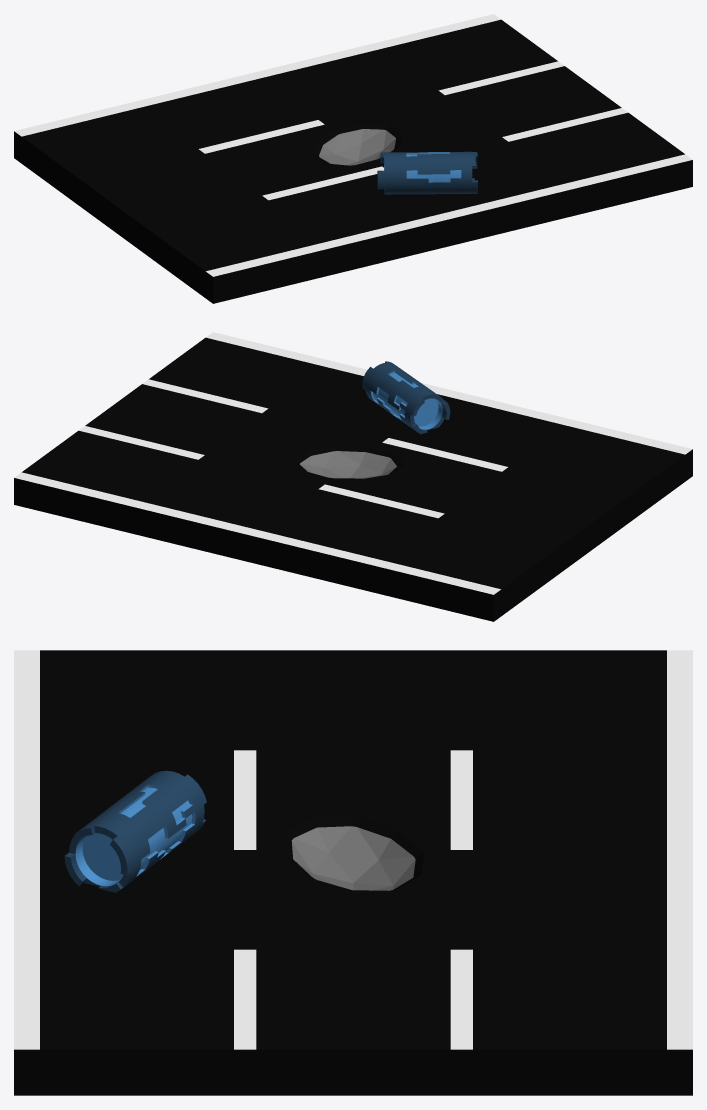
The model's file is Route Troue V2 Tronc V1.fbx.
3 views of the same model, one above another, from view 1: azimuth 30°, elevation 25°; view 2: azimuth 150°, elevation 25°; view 3: azimuth 270°, elevation 25° (orthographic). The views are drawn at different scales.
Parts seen in each view (by area): view 1: Route Troue V2 Tronc V1; view 2: Route Troue V2 Tronc V1; view 3: Route Troue V2 Tronc V1.
Boxes of the visible parts, x1,y1,x2,y2 form: Route Troue V2 Tronc V1: (14,14,692,303); Route Troue V2 Tronc V1: (14,332,692,621); Route Troue V2 Tronc V1: (14,650,692,1095).
Bounding box in the file's own units: 501 × 62.07 × 360.
